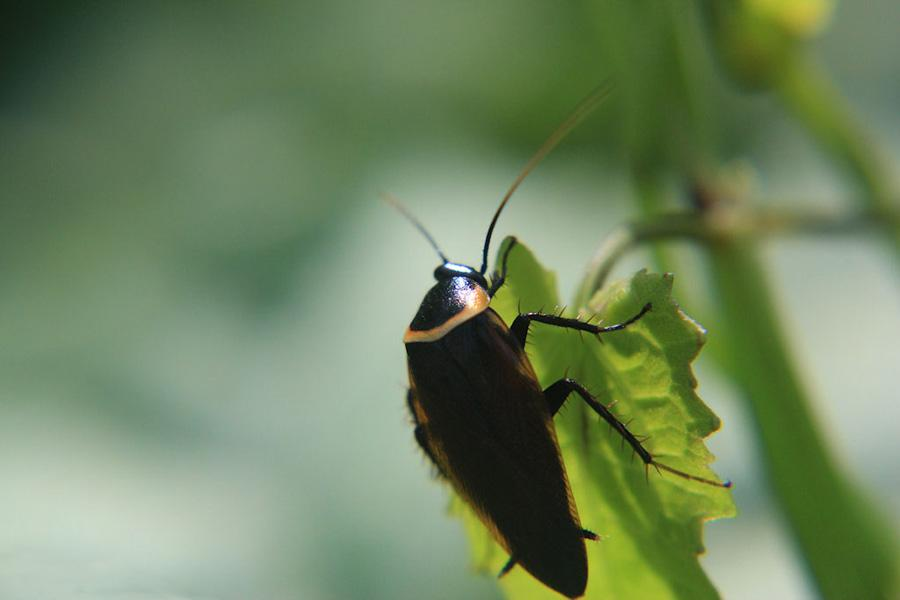cockroach: (389, 244, 599, 600)
